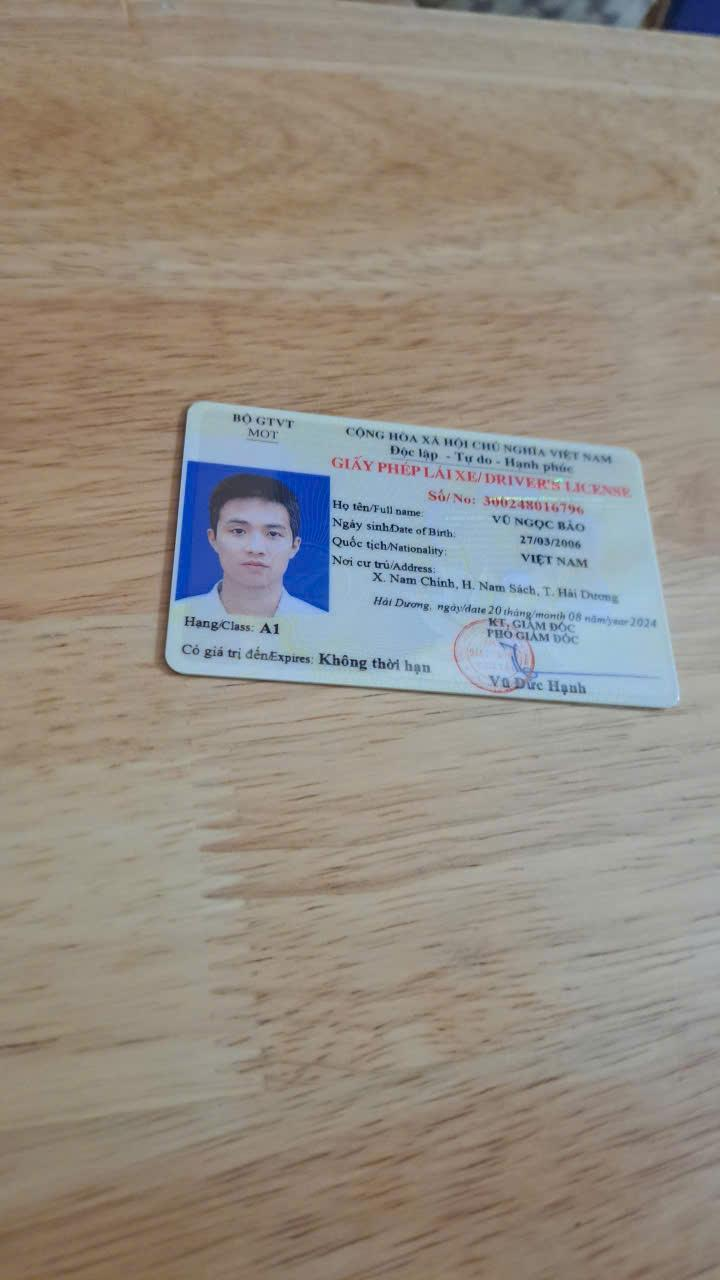gplx: (152, 387, 690, 712)
